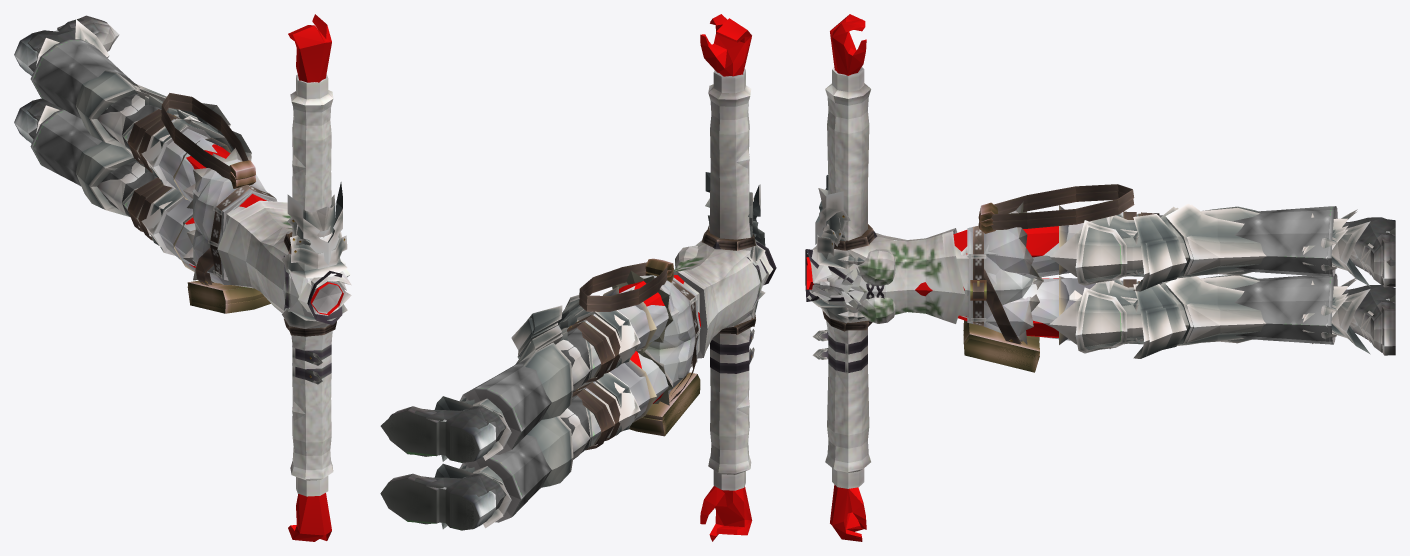
The model's file is body114.obj.
The picture shows the model from 3 angles, left to right: view 1: azimuth 30°, elevation 25°; view 2: azimuth 150°, elevation 25°; view 3: azimuth 270°, elevation 25°; orthographic projection.
Parts seen in each view (by area): view 1: h_body114_0, h_body114_4, h_body114_5, l_body114_4, h_body114_1, l_body114_0; view 2: h_body114_4, h_body114_0, h_body114_5, l_body114_4, h_body114_1, l_body114_0, l_body114_5; view 3: h_body114_5, h_body114_4, h_body114_0, l_body114_4, h_body114_1, l_body114_0.
Part boxes in pixels (<box>): h_body114_0: <box>217,14,347,541</box>; h_body114_4: <box>14,15,276,308</box>; h_body114_5: <box>27,18,271,313</box>; l_body114_4: <box>30,39,161,216</box>; h_body114_1: <box>239,14,350,540</box>; l_body114_0: <box>289,74,351,350</box>; h_body114_4: <box>380,270,700,530</box>; h_body114_0: <box>673,18,773,537</box>; h_body114_5: <box>384,258,700,530</box>; l_body114_4: <box>460,327,590,522</box>; h_body114_1: <box>674,14,776,541</box>; l_body114_0: <box>707,69,750,344</box>; l_body114_5: <box>462,406,504,521</box>; h_body114_5: <box>963,184,1395,372</box>; h_body114_4: <box>963,191,1395,367</box>; h_body114_0: <box>806,14,968,541</box>; l_body114_4: <box>1158,206,1337,344</box>; h_body114_1: <box>805,19,967,541</box>; l_body114_0: <box>811,67,892,344</box>.
Bounding box in the file's own units: 0.55 × 2.37 × 2.43.
2 materials, 1 textured.
